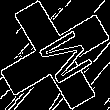M_SW: (21, 22, 89, 88)
